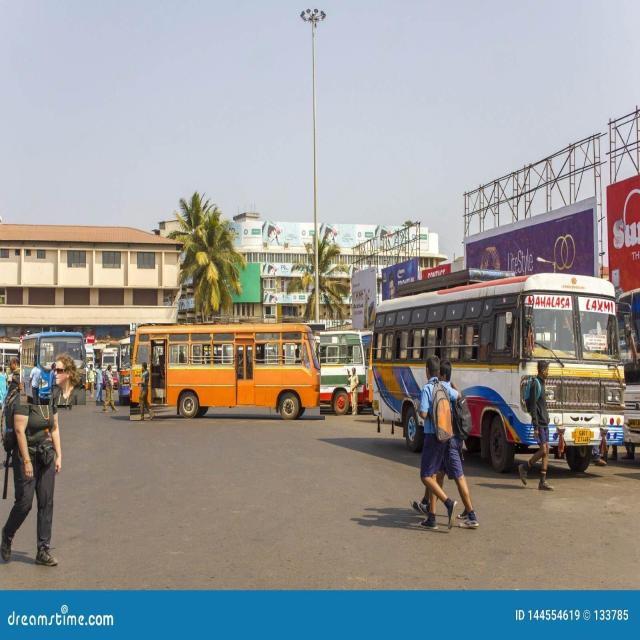bus: (371, 268, 626, 472), (130, 323, 325, 420), (20, 332, 86, 405), (320, 330, 372, 415)
